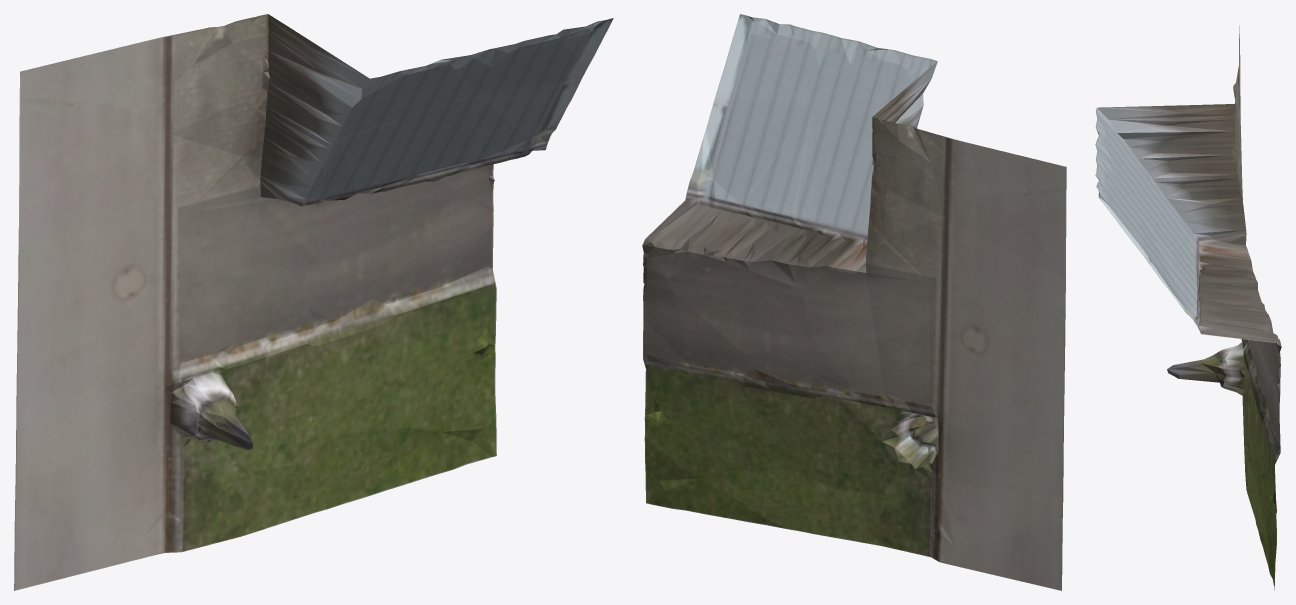
File: map_30_90.obj
3 views of the same model, side by side, from view 1: azimuth 30°, elevation 25°; view 2: azimuth 150°, elevation 25°; view 3: azimuth 270°, elevation 25° (orthographic). The views are drawn at different scales.
Visible parts, largest first — view 1: grp1; view 2: grp1; view 3: grp1.
Boxes of the visible parts, x1,y1,x2,y2 form: grp1: (14, 14, 613, 590); grp1: (642, 14, 1066, 590); grp1: (1095, 25, 1281, 590).
Size of the model in its own units: 10 by 10 by 4.3.
1 material, 1 textured.
